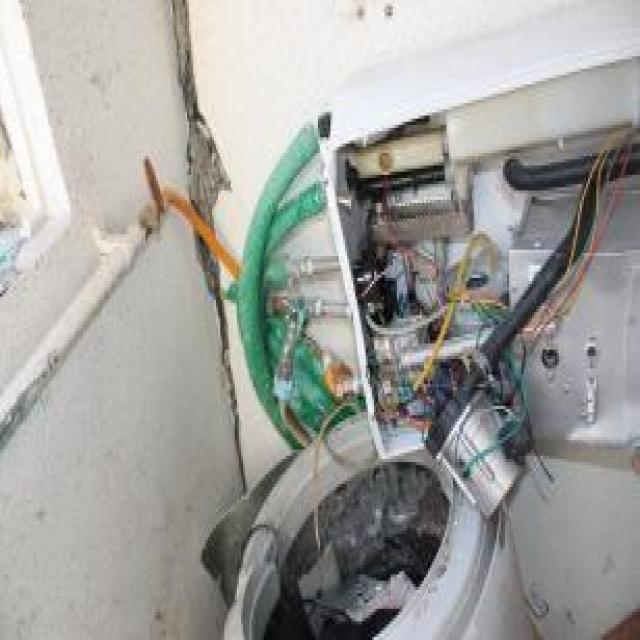Boiler: (262, 76, 640, 528)
